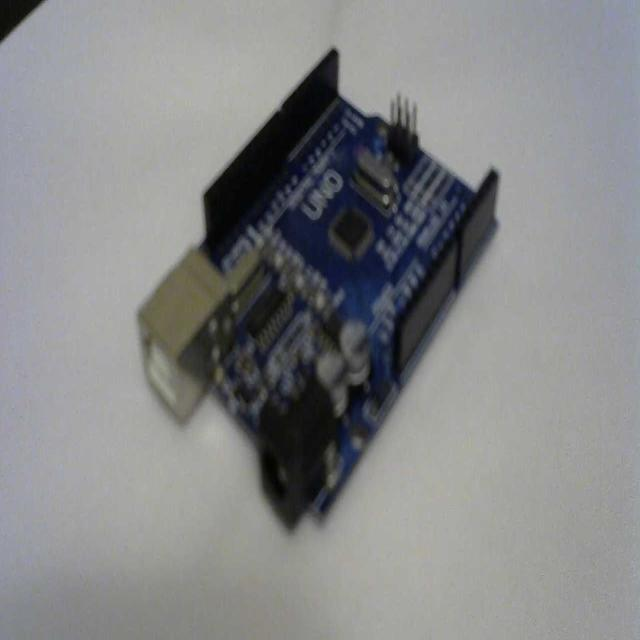arduino: (131, 39, 507, 544)
